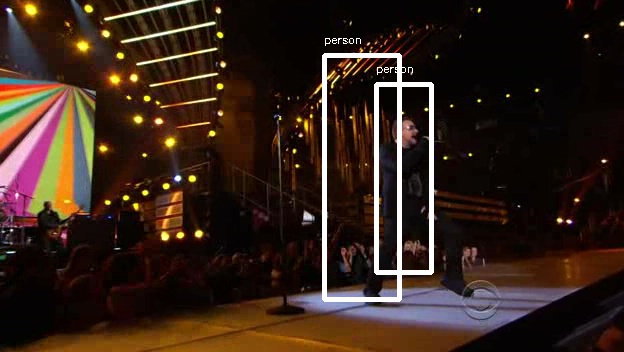person: (378, 124, 446, 247), (375, 124, 443, 247), (381, 124, 449, 247), (378, 121, 446, 244), (378, 127, 446, 250)
target_negative: (173, 121, 590, 296), (351, 50, 600, 333), (69, 258, 576, 283), (344, 194, 581, 199), (5, 311, 25, 344)
